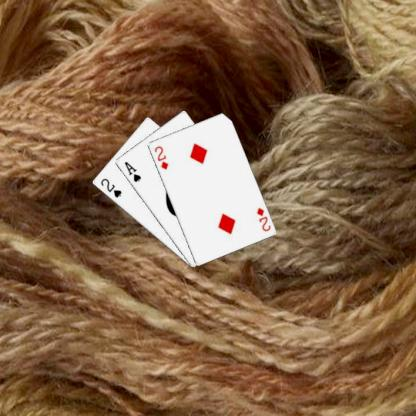2D: (152, 143, 169, 171), (254, 205, 271, 233)
2S: (97, 176, 123, 199)
AS: (122, 159, 142, 183)
